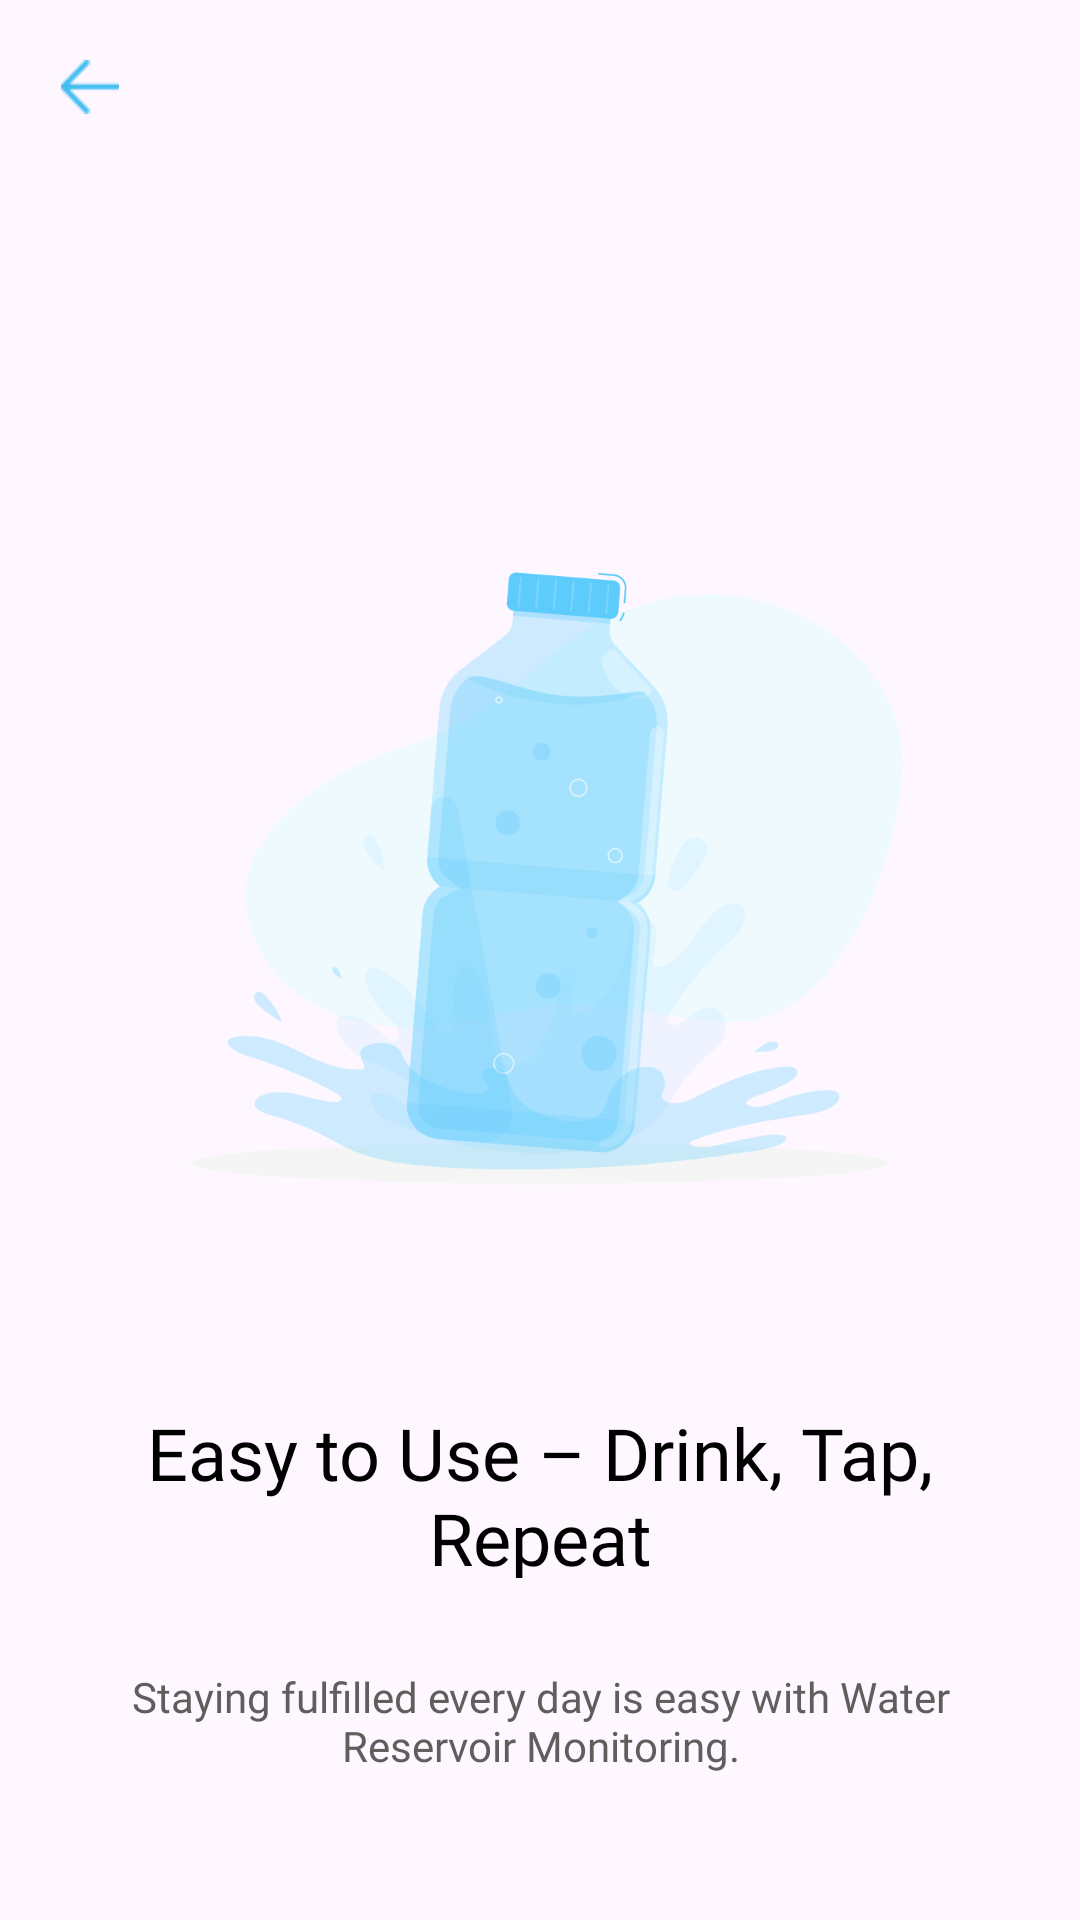

Where icons sit on this 1080w x 1920h app screen, as (x1, y1, x2, y2):
back: (61, 60, 119, 114)
